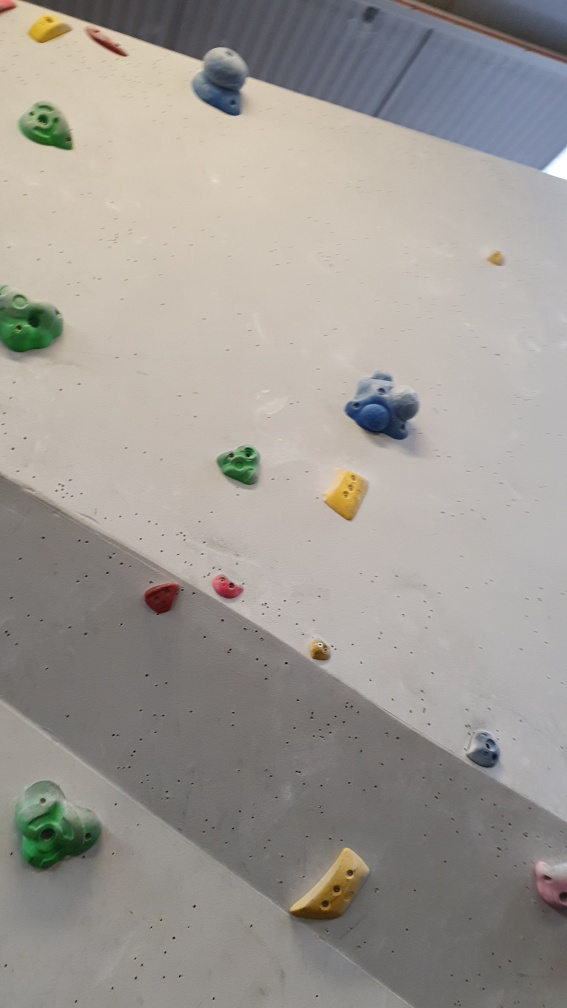Crimp: (285, 842, 377, 930), (323, 466, 374, 526)
Jug: (15, 777, 108, 877), (1, 279, 69, 360), (17, 94, 78, 159), (212, 437, 265, 488)
Pinch: (23, 9, 77, 49)
Sloper: (341, 360, 429, 455), (188, 45, 253, 118)
